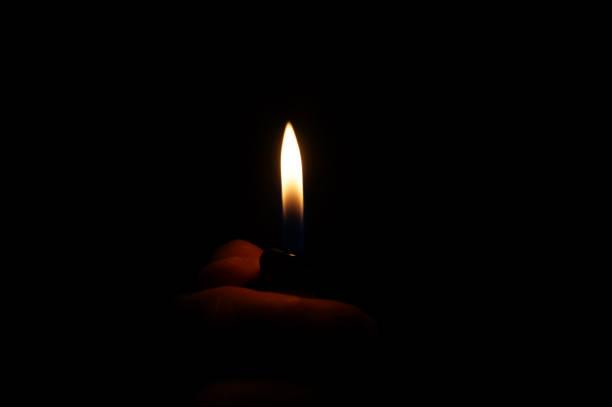Fire: (275, 119, 312, 229)
